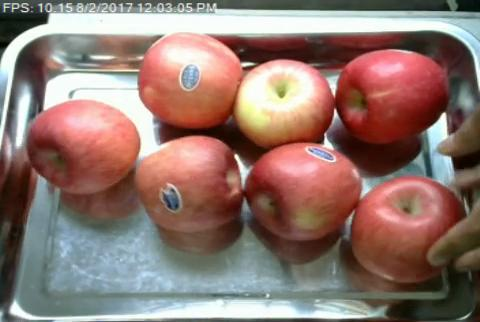apple: (355, 177, 465, 283), (246, 144, 363, 241), (26, 100, 139, 193), (137, 134, 243, 233), (336, 49, 448, 140), (139, 35, 238, 127), (236, 60, 333, 143)
